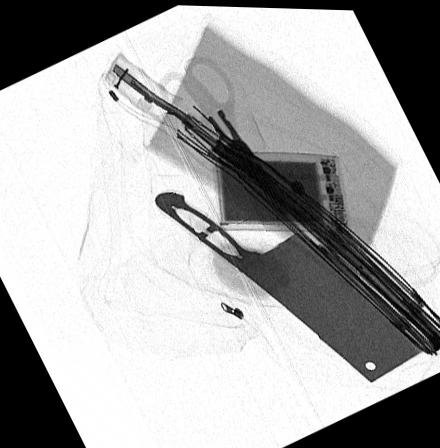Knife: (154, 190, 427, 381)
Powerbank: (217, 149, 345, 228)
Scissors: (156, 56, 287, 204)
